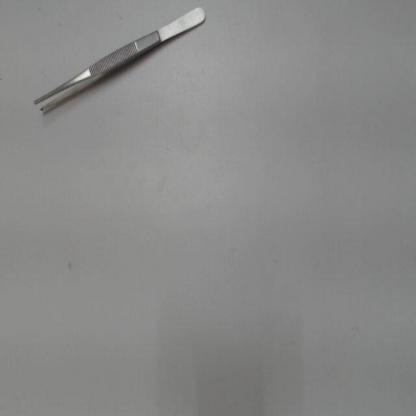Gillies Toothed Dissector: (28, 3, 210, 126)
